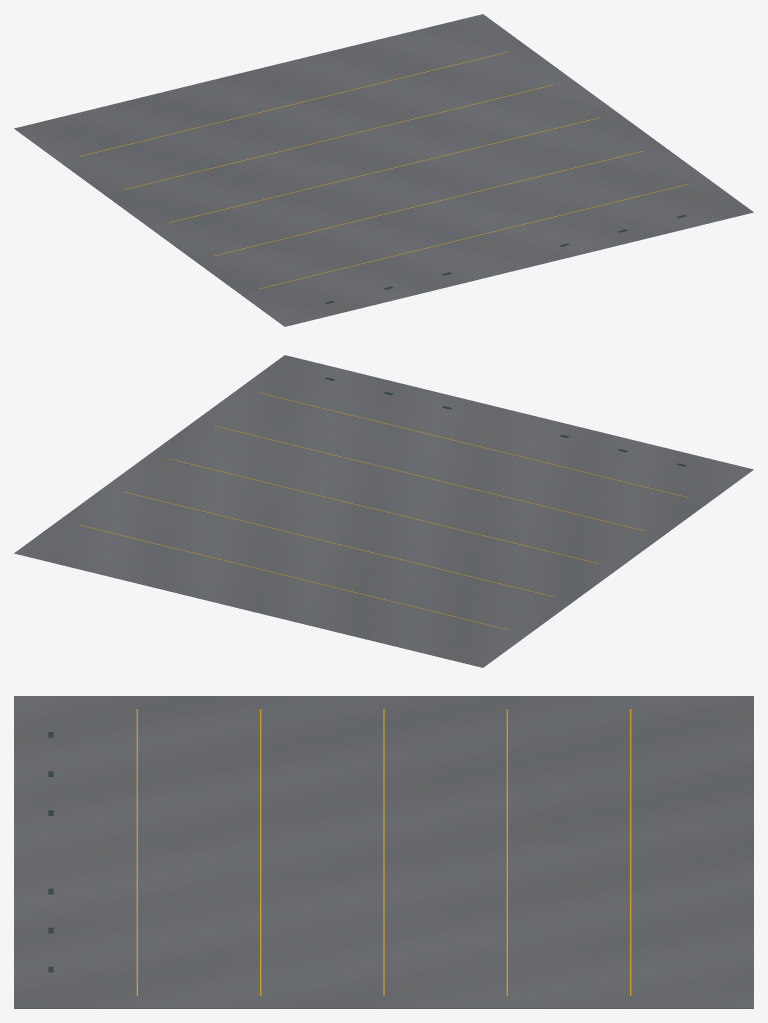
Rendered from STW_INDUSTRIAL_YARD_01_deck.fbx.
The picture shows the model from 3 angles, top to bottom: view 1: azimuth 30°, elevation 25°; view 2: azimuth 150°, elevation 25°; view 3: azimuth 270°, elevation 25°; orthographic projection. The views are drawn at different scales.
Visible parts, largest first — view 1: wet_concrete_deck; view 2: wet_concrete_deck; view 3: wet_concrete_deck, IY_DeckExpansion_00, IY_DeckExpansion_01, IY_DeckExpansion_02, IY_DeckExpansion_03, IY_DeckExpansion_04.
Part boxes in pixels (x1,y1,x2,y2): wet_concrete_deck: [14, 14, 753, 326]; wet_concrete_deck: [14, 355, 753, 667]; wet_concrete_deck: [14, 696, 753, 1008]; IY_DeckExpansion_00: [136, 709, 137, 995]; IY_DeckExpansion_01: [260, 709, 261, 995]; IY_DeckExpansion_02: [383, 709, 384, 995]; IY_DeckExpansion_03: [506, 709, 507, 995]; IY_DeckExpansion_04: [630, 709, 631, 995].
Size of the model in its own units: 2400 by 2400 by 2.4.
Materials: 4 (4 with a texture image).
